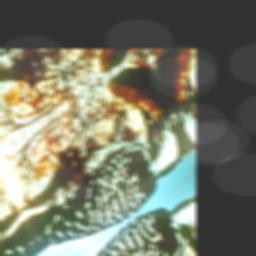Woodpecker: (2, 57, 194, 256)
